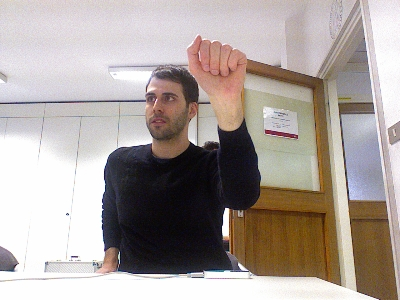石头: (185, 32, 248, 96)
